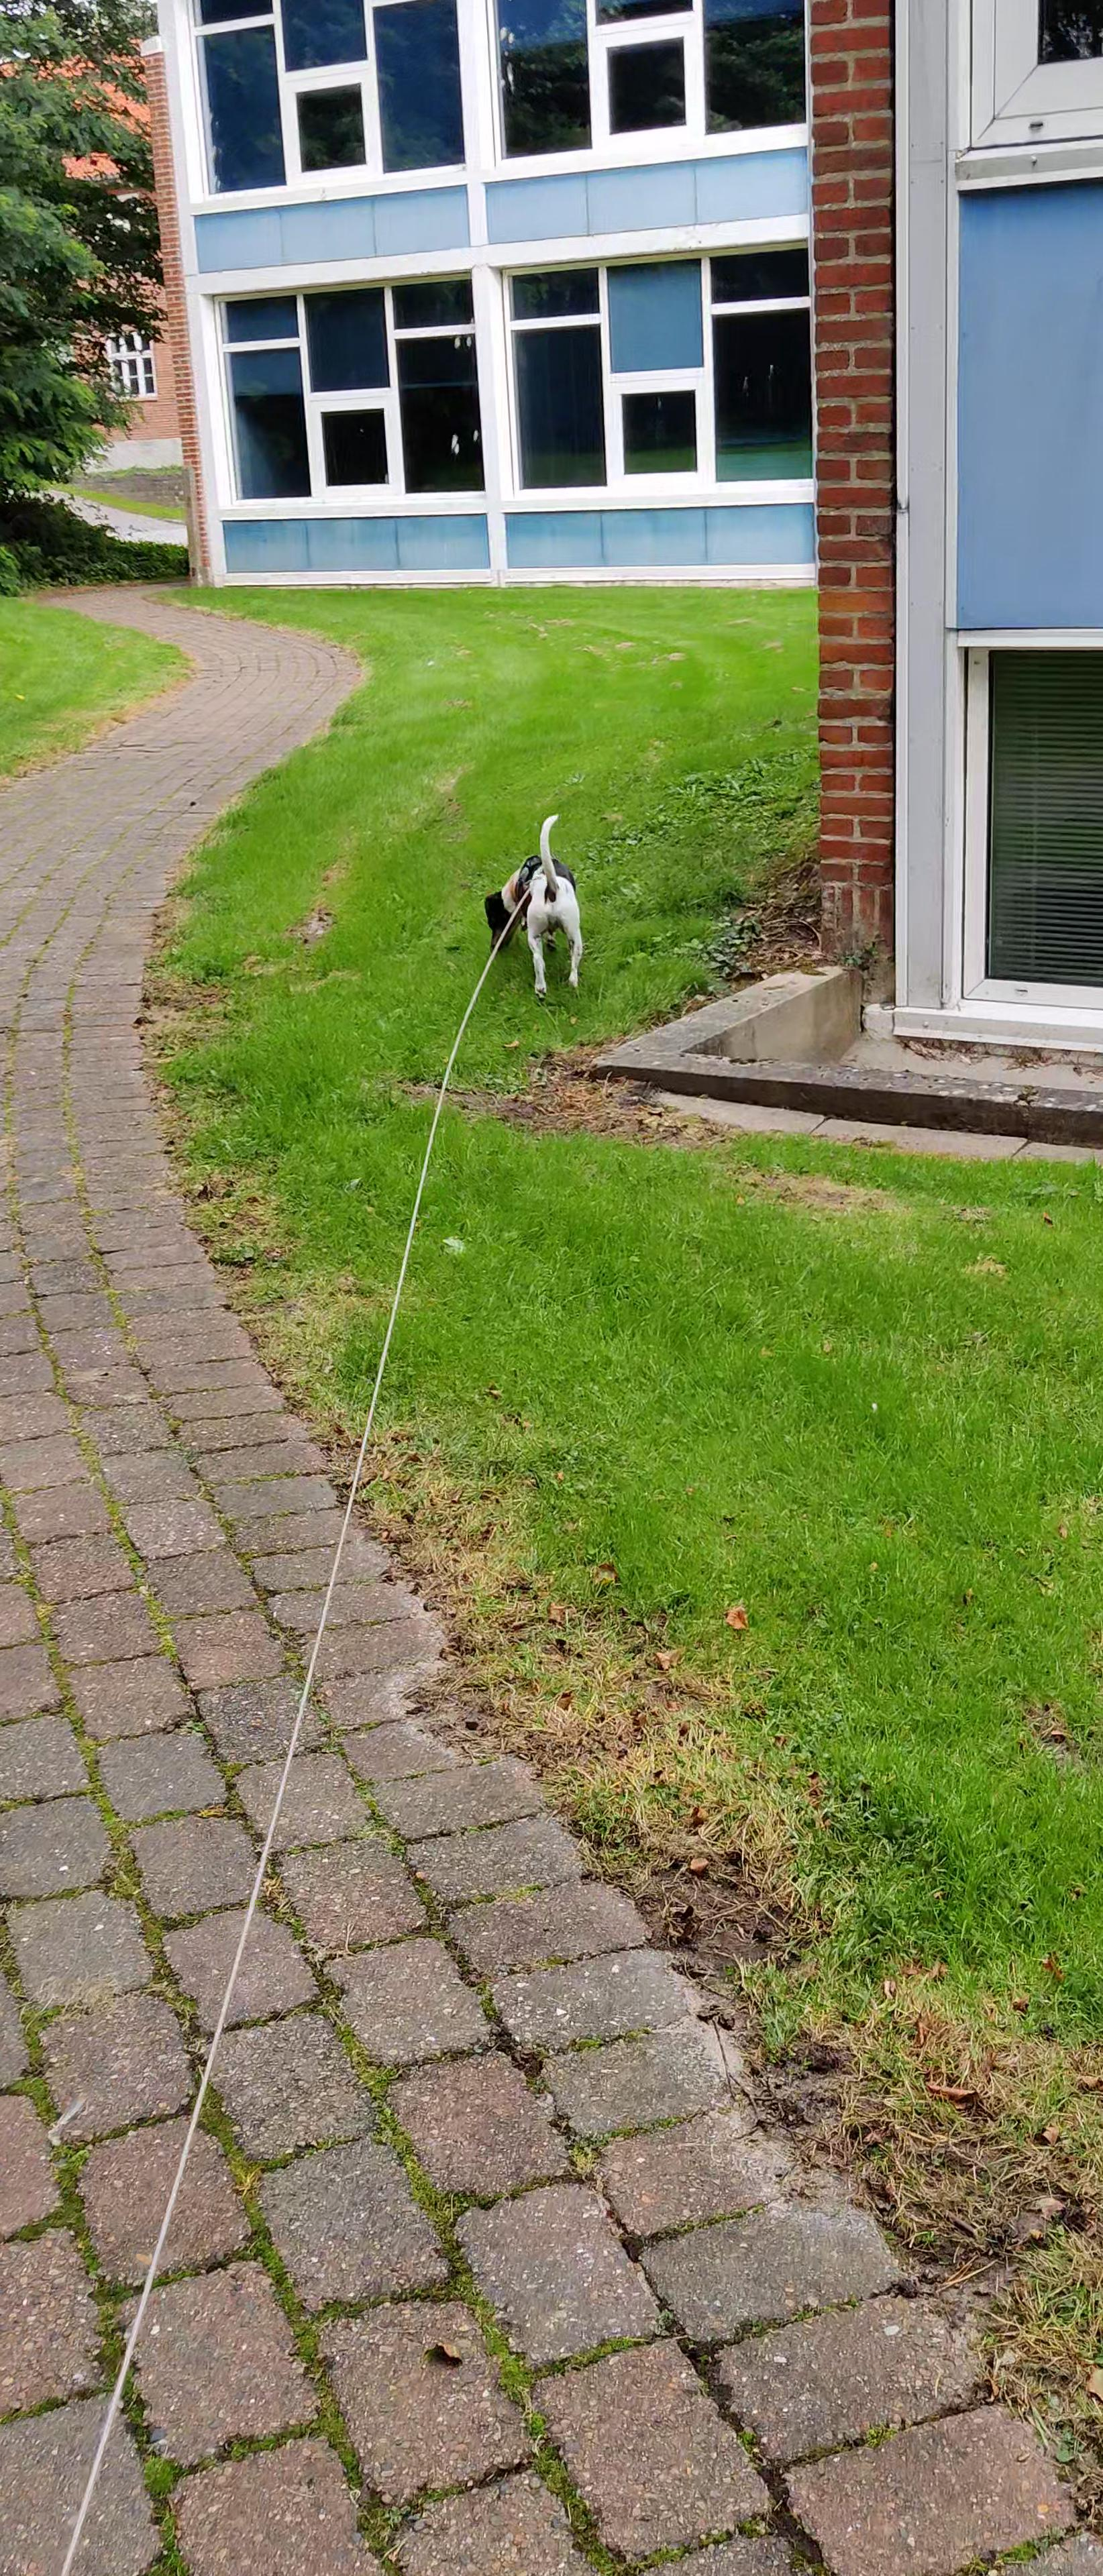Dog: (464, 798, 607, 1010)
